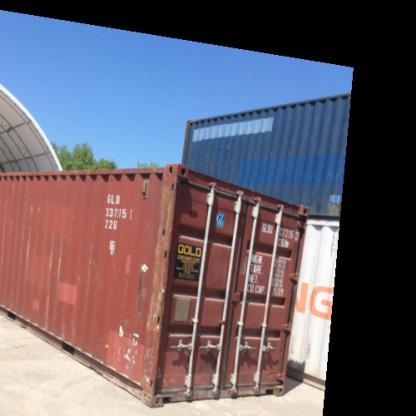Damage: (133, 176, 181, 317), (105, 320, 162, 388), (81, 242, 99, 316), (44, 234, 66, 286), (18, 224, 31, 288), (58, 316, 80, 342), (38, 293, 53, 331), (22, 200, 48, 216)
